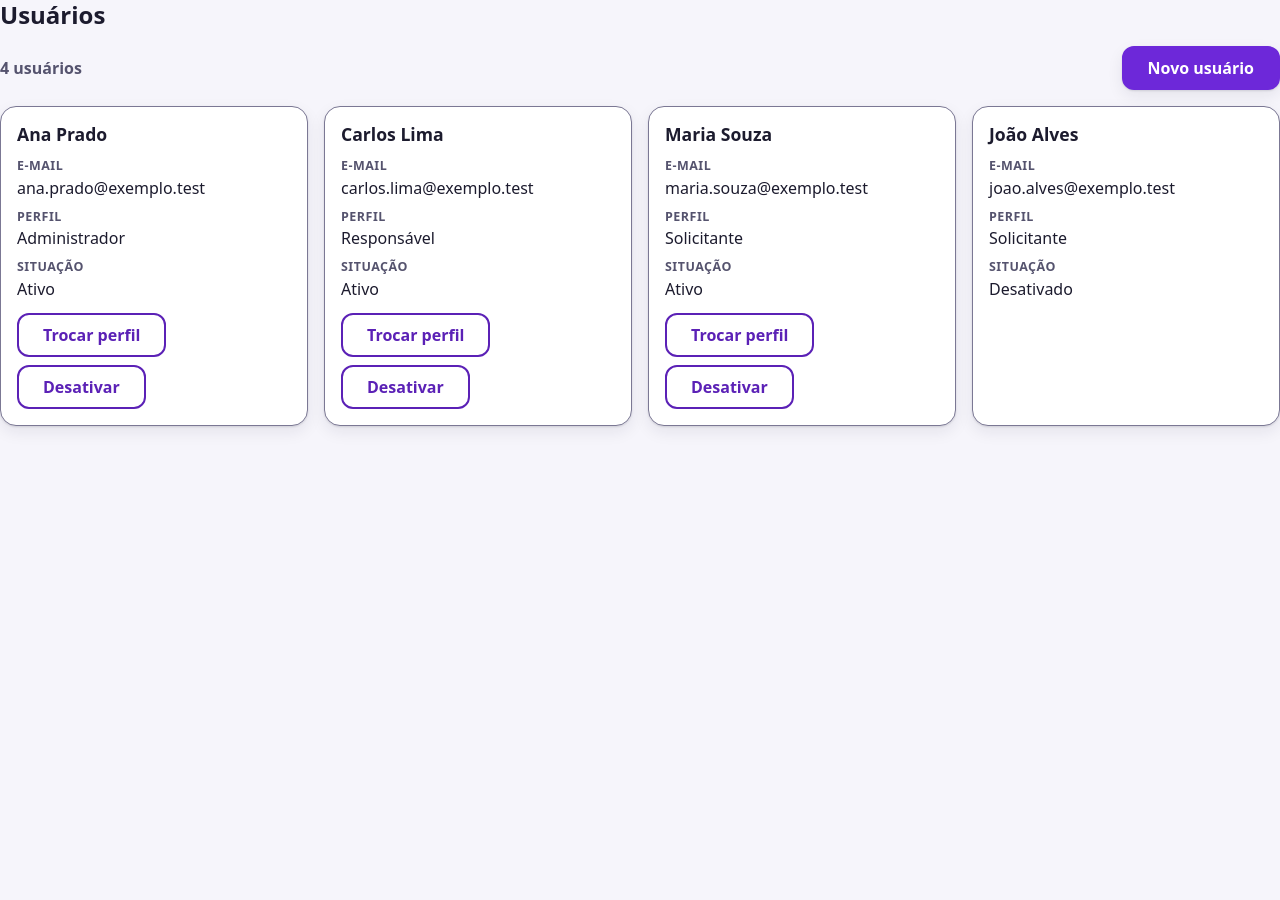
Test case: PaginaDeUsuarios: trocar perfil (RF-15) › abre um diálogo modal com o perfil atual escolhido e o foco na lista de perfis
The image size is (1280, 900).
What coordinates should you click on to do the following:
click the button "Trocar perfil" below "maria.souza@exemplo.test"
I would click on:
 (740, 335)
Its box is 665,313 -> 814,357.
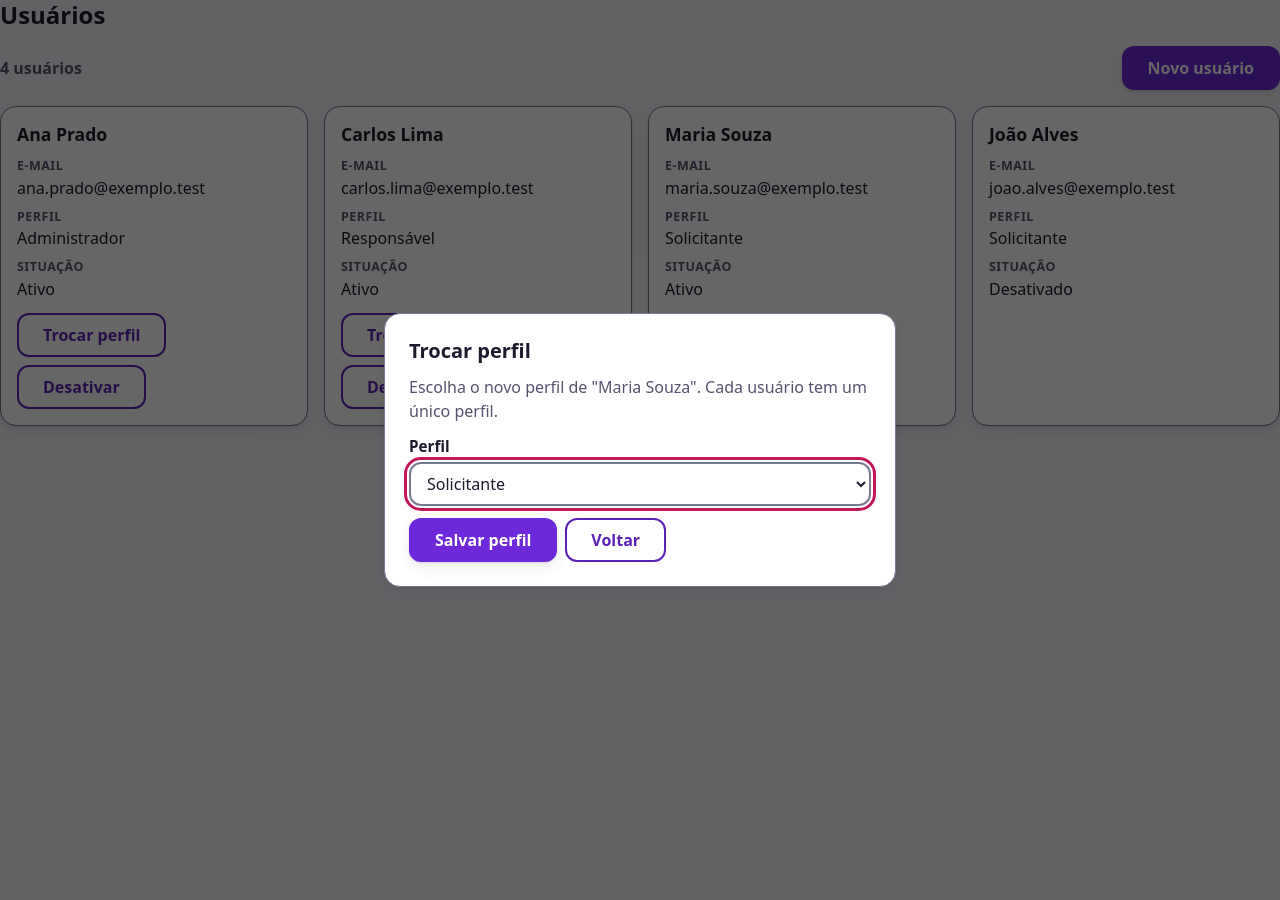
Check: the dropdown labelled "Perfil" shows "Solicitante", box 409,462 -> 871,506
